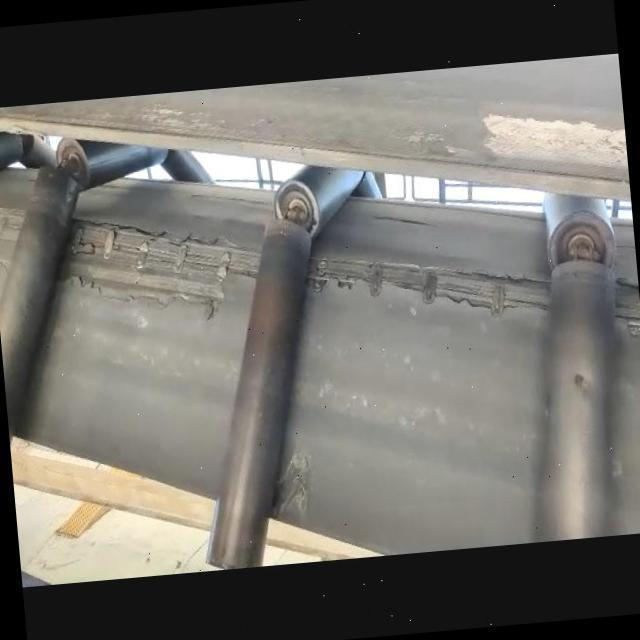Tear: (52, 210, 266, 323), (304, 247, 558, 323)
Wear: (266, 444, 320, 530)
